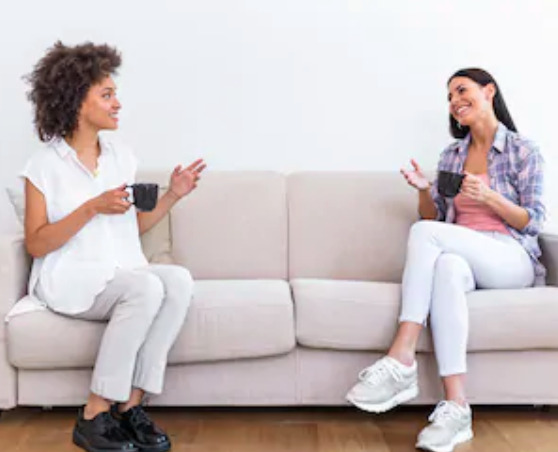Caution: (23, 40, 545, 449)
